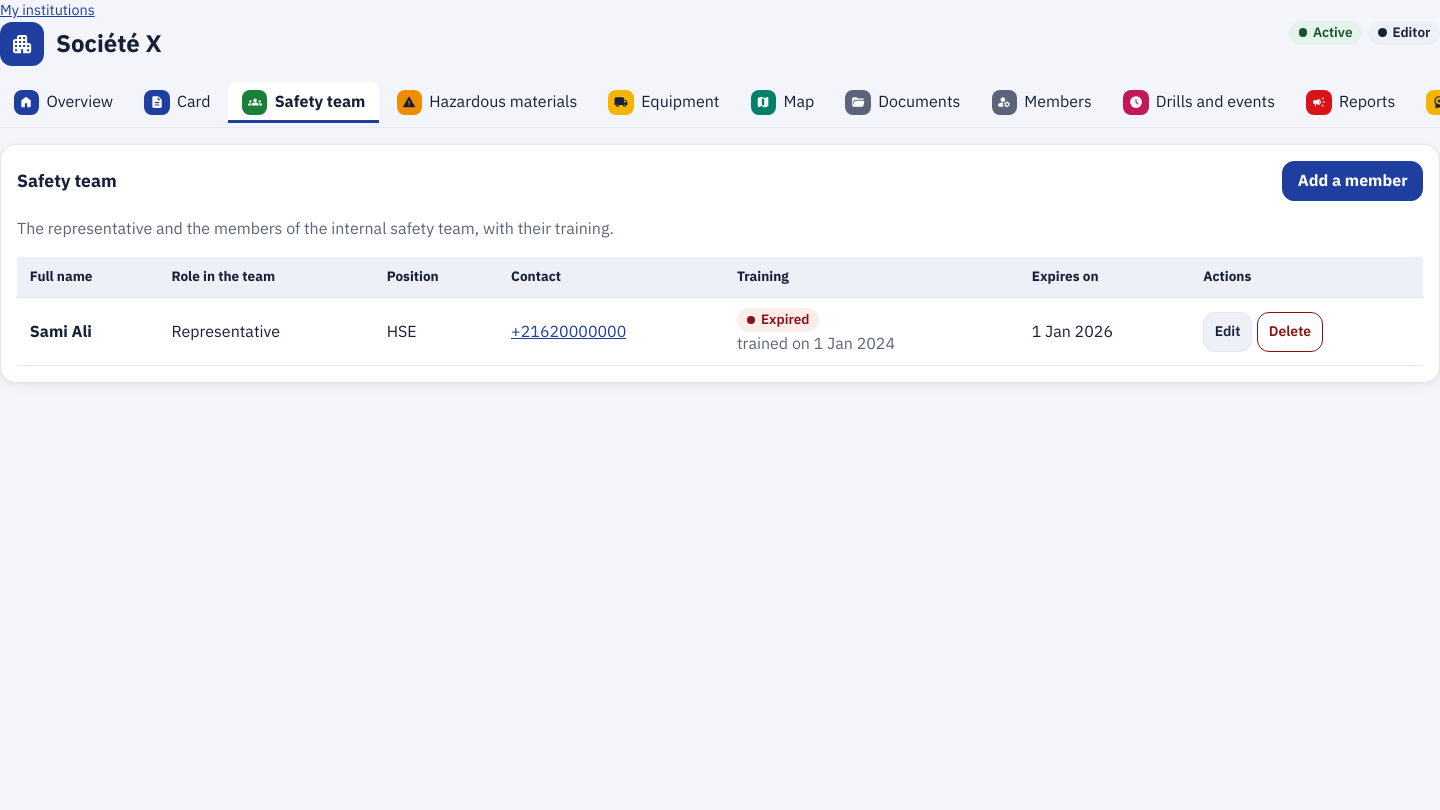
Test case: role-based visibility › team: still handles a 403 from the server and forbids a second representative
Click the button "Add a member" at point(1353, 181), box [1282,161,1423,201]
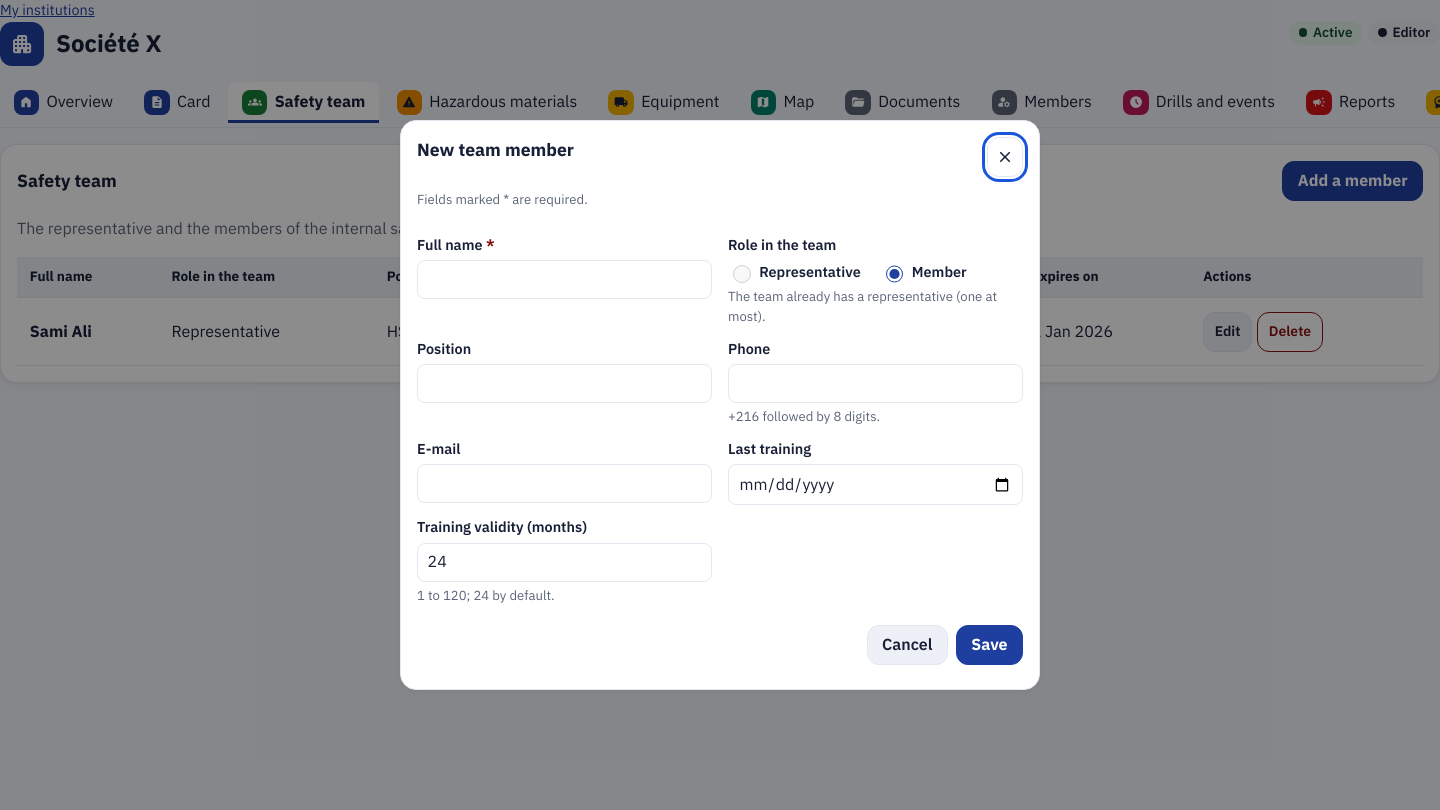
Check: the radio button labelled "Representative" is disabled, box [733,265,751,283]
Check: the radio button labelled "Member" is checked, box [886,265,903,283]
Type "Ines" into the field labelled "Full name *" at point(564, 280), box [417,260,712,299]
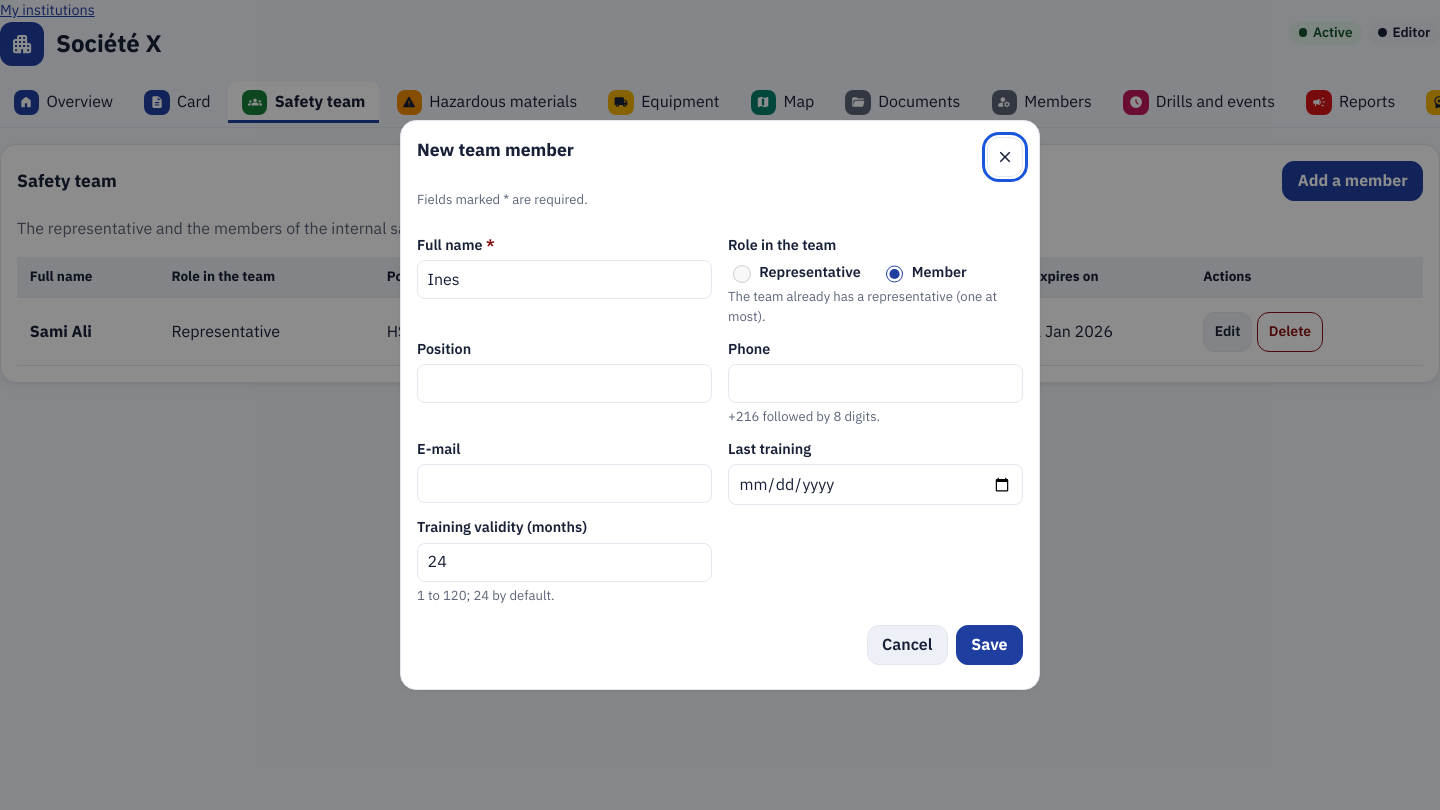
Click the button "Save" at point(989, 645), box [956,625,1023,665]
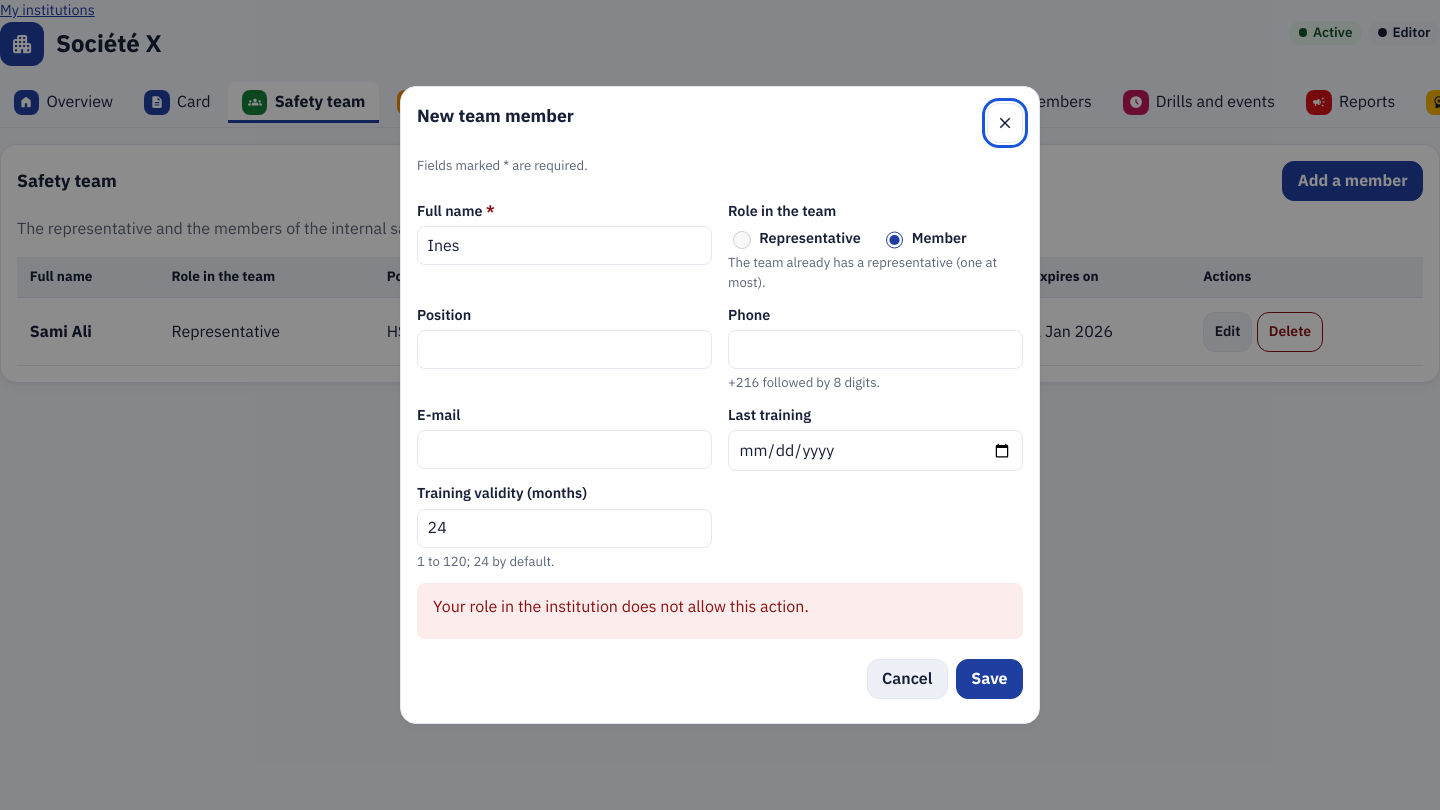
Check: the text "Your role in the institution does not allow this action." is shown, box [433,595,809,619]
